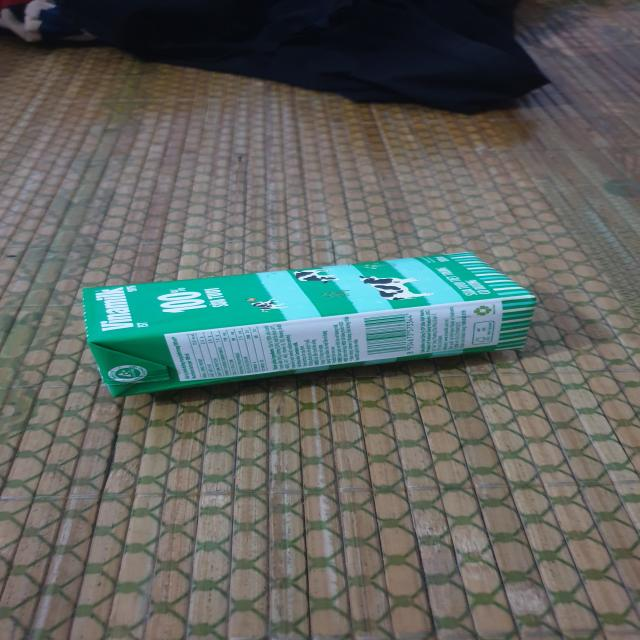Vina: (79, 249, 543, 401)
